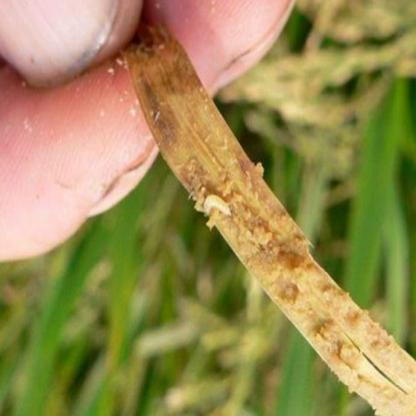whorl-maggot: (196, 186, 232, 223)
